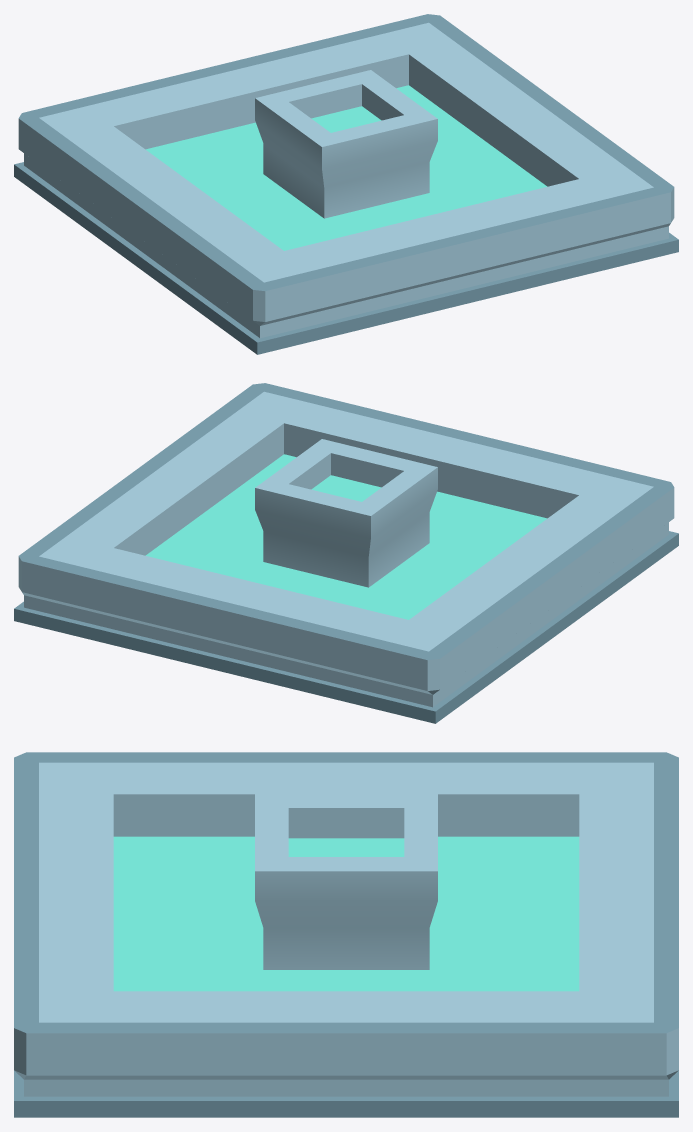
Rendered from fountainSquareDetail.fbx.
3 views of the same model, one above another, from view 1: azimuth 30°, elevation 25°; view 2: azimuth 150°, elevation 25°; view 3: azimuth 270°, elevation 25° (orthographic). The views are drawn at different scales.
Visible parts, largest first — view 1: fountainSquareDetail; view 2: fountainSquareDetail; view 3: fountainSquareDetail.
Part boxes in pixels (x1,y1,x2,y2): fountainSquareDetail: [14, 14, 678, 354]; fountainSquareDetail: [14, 383, 678, 723]; fountainSquareDetail: [14, 752, 678, 1117].
Size of the model in its own units: 20 by 4.8 by 20.
